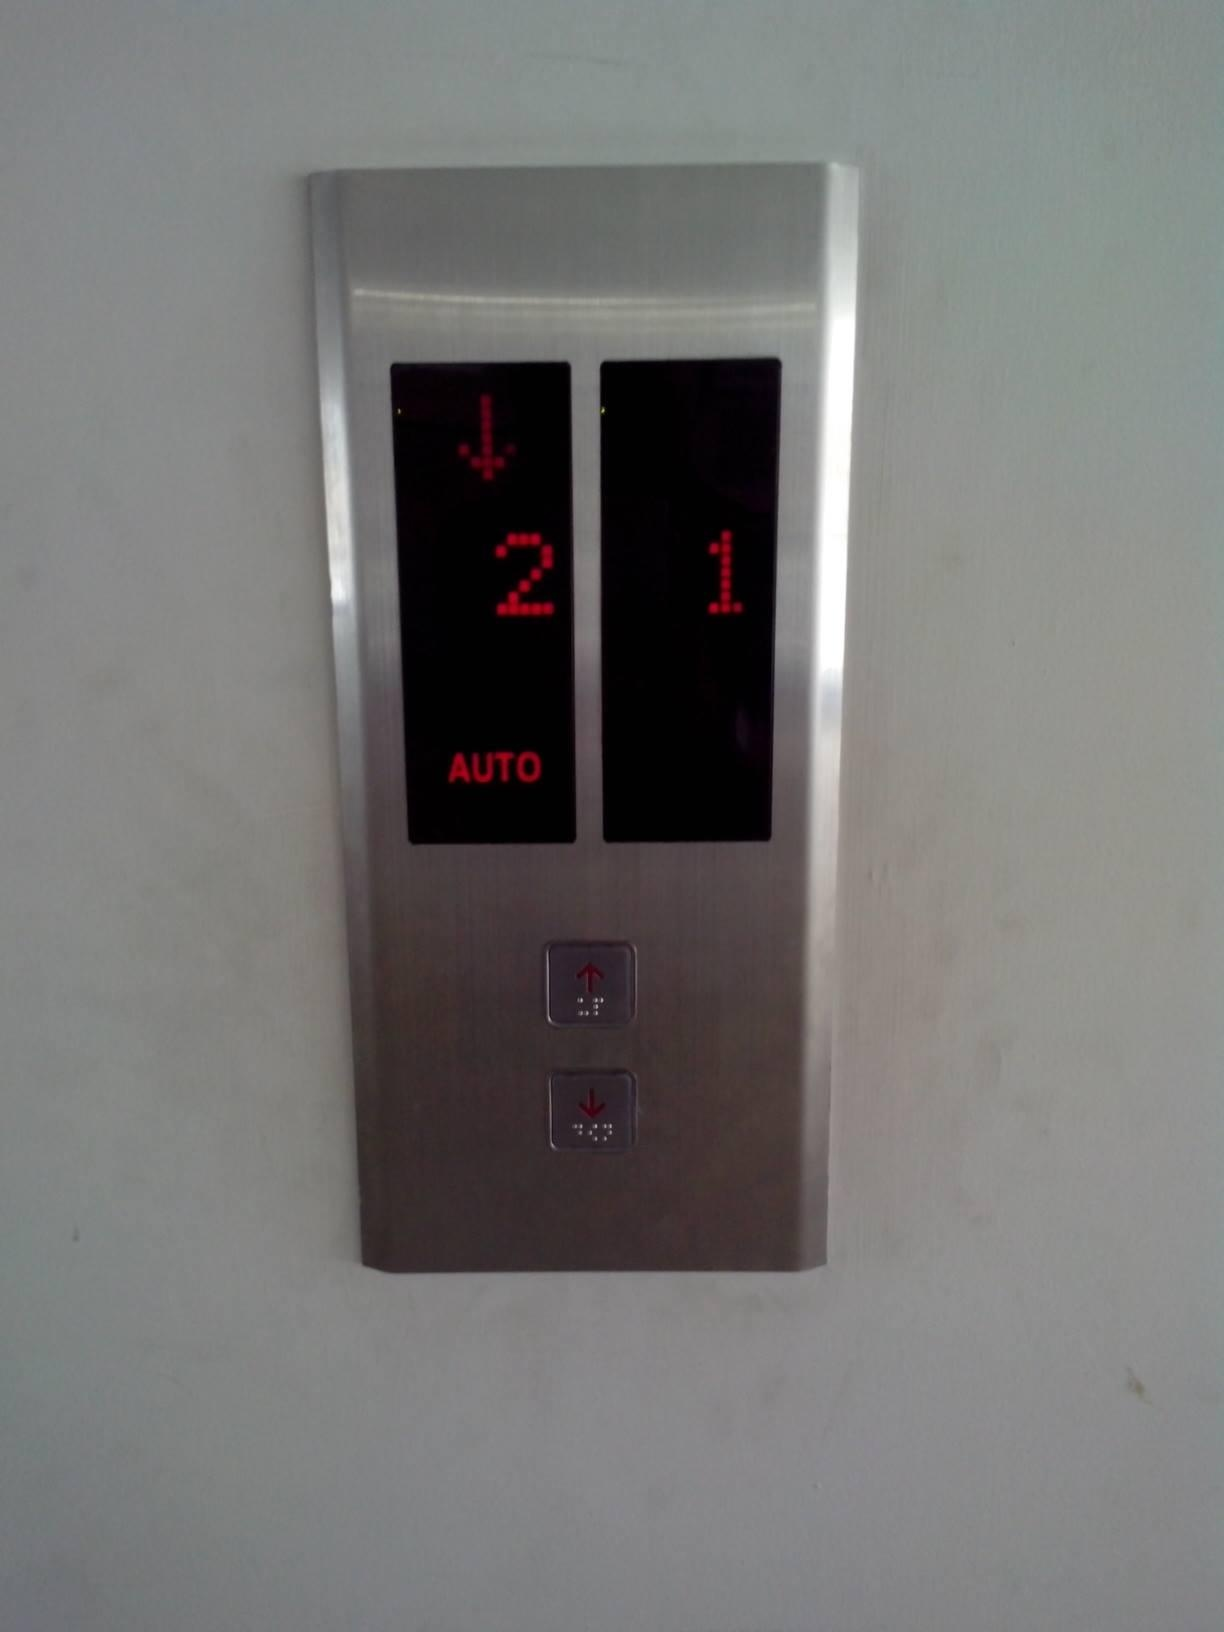down: (543, 1063, 642, 1160)
led: (388, 357, 579, 843), (599, 357, 782, 849)
up: (539, 939, 643, 1040)
